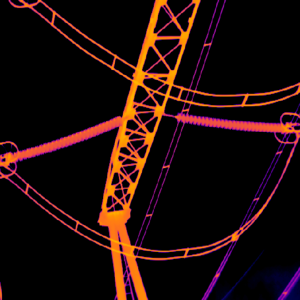insulator: (12, 113, 123, 162), (173, 110, 292, 133)
